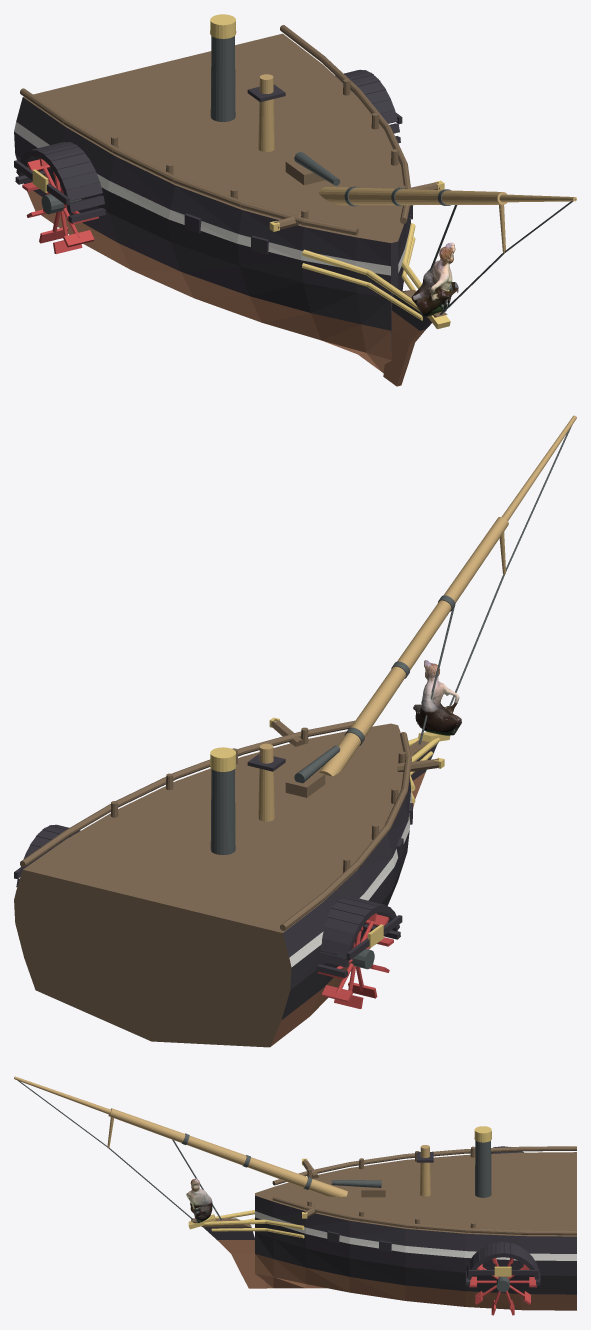
File: centaur.glb
3 views of the same model, one above another, from view 1: azimuth 30°, elevation 25°; view 2: azimuth 150°, elevation 25°; view 3: azimuth 270°, elevation 25° (orthographic). The views are drawn at different scales.
Visible parts, largest first — view 1: centaur_ParentBow, centaur_Figurehead; view 2: centaur_ParentBow, centaur_Figurehead; view 3: centaur_ParentBow, centaur_Figurehead.
Boxes of the visible parts, bbox=[...] form: centaur_ParentBow: bbox=[14, 14, 576, 386]; centaur_Figurehead: bbox=[411, 242, 458, 317]; centaur_ParentBow: bbox=[14, 415, 576, 1047]; centaur_Figurehead: bbox=[413, 660, 461, 735]; centaur_ParentBow: bbox=[14, 1076, 576, 1315]; centaur_Figurehead: bbox=[186, 1178, 212, 1223].
Bounding box in the file's own units: 14.35 × 12.87 × 31.05.
2 materials, 2 textured.
